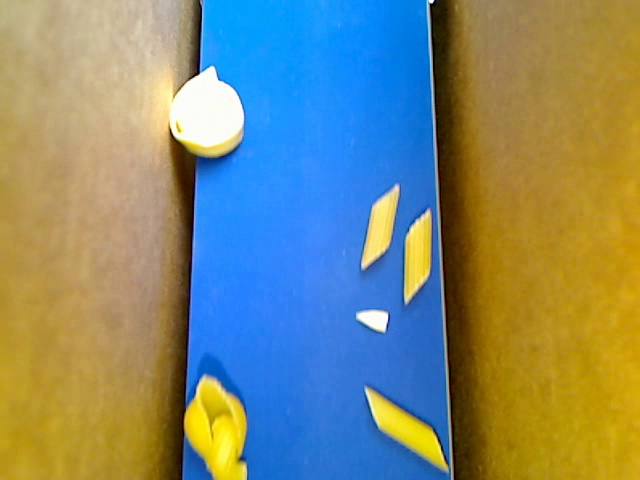elbow: (210, 414, 248, 479)
penne: (365, 386, 449, 473), (359, 185, 399, 268), (402, 207, 432, 304)
shell: (185, 373, 245, 475)
tortellini: (169, 66, 244, 159)
